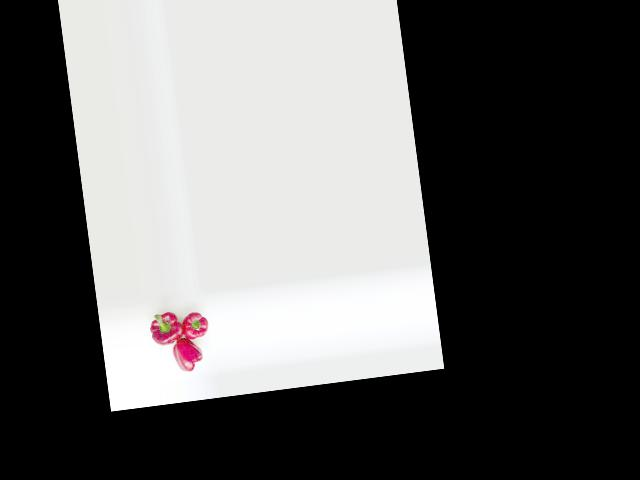bell_pepper: (168, 334, 210, 377)
